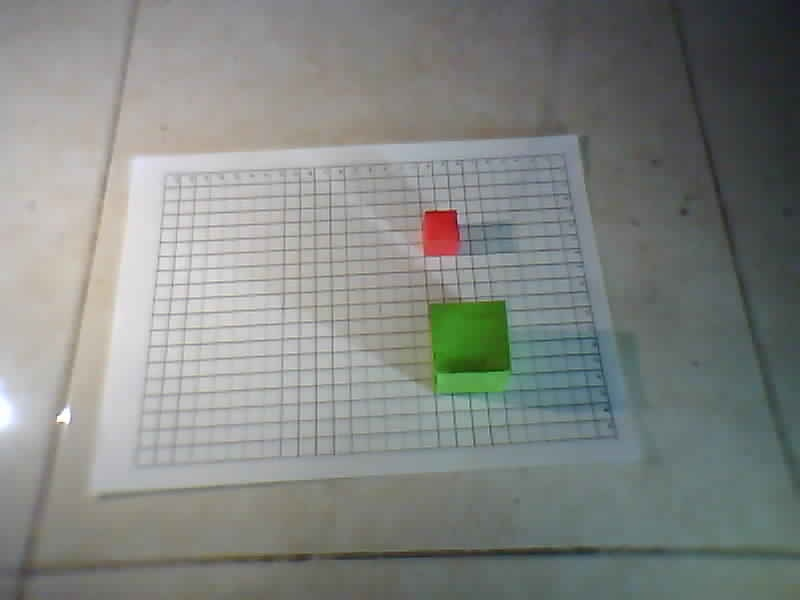LB: (133, 462, 141, 468)
LT: (162, 172, 170, 178)
RB: (612, 432, 620, 438)
RT: (559, 154, 567, 160)
